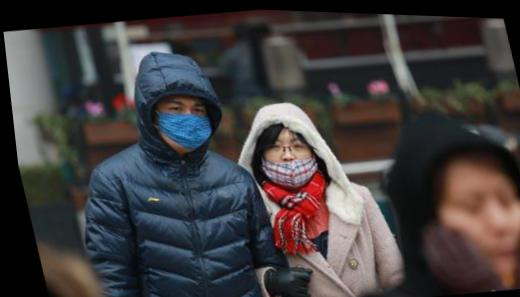NONE: (435, 170, 520, 269)
WRONG: (151, 89, 216, 156), (254, 127, 314, 183)
